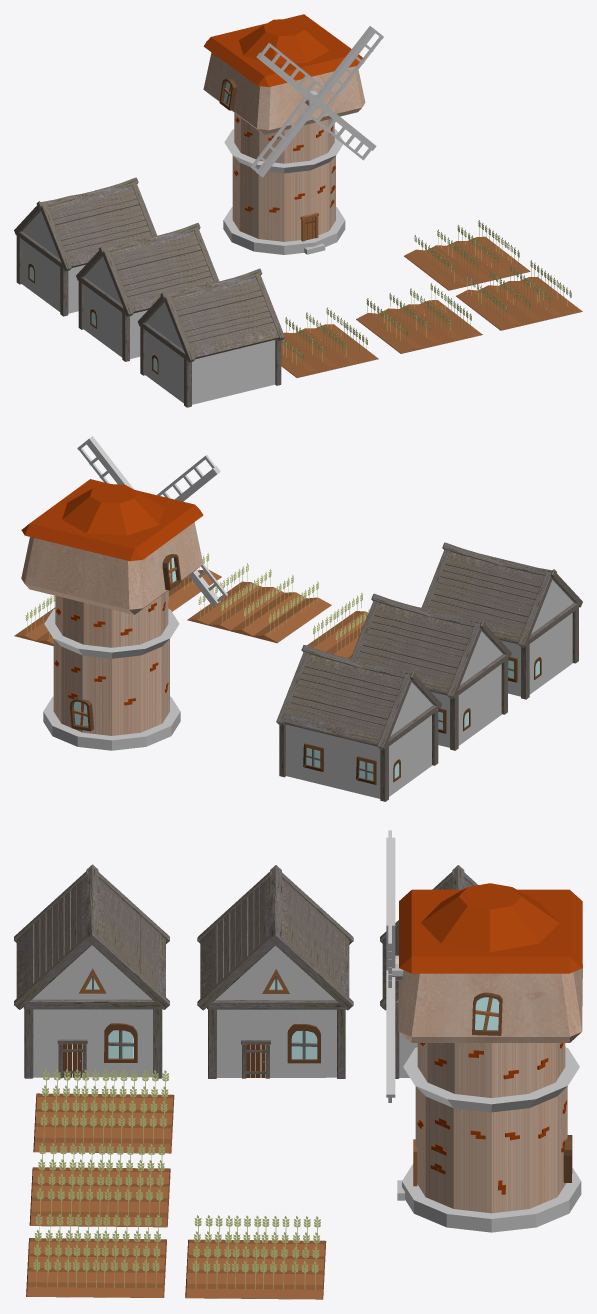
File: field_lvl_3.fbx
3 views of the same model, one above another, from view 1: azimuth 30°, elevation 25°; view 2: azimuth 150°, elevation 25°; view 3: azimuth 270°, elevation 25° (orthographic). The views are drawn at different scales.
Visible parts, largest first — view 1: Cylinder, Cube.014, Cube.033, Cube.007, Cube.019, Cube.016, Cube, Cylinder.002, Plane.001, Plane.002, Plane.006, Plane.004 (+8 smaller); view 2: Cylinder, Cube.033, Cube.014, Cube.007, Cube.019, Cube, Cube.035, Plane.002, Cube.016, Cube.009, Cylinder.003, Cylinder.002 (+11 smaller); view 3: Cylinder, Cube.014, Cube.019, Cube.007, Cube, Cube.016, Cube.009, Plane.006, Plane.001, Plane.004, Plane.002, Cylinder.003 (+13 smaller).
Boxes of the visible parts, left/top/right/bottom form: Cylinder: left=232, top=113, right=335, bottom=241; Cube.014: left=137, top=268, right=284, bottom=407; Cube.033: left=14, top=177, right=157, bottom=316; Cube.007: left=76, top=223, right=219, bottom=361; Cube.019: left=203, top=14, right=362, bottom=87; Cube.016: left=146, top=302, right=275, bottom=404; Cube: left=203, top=52, right=365, bottom=134; Cylinder.002: left=250, top=26, right=383, bottom=177; Plane.001: left=456, top=276, right=582, bottom=330; Plane.002: left=356, top=300, right=482, bottom=353; Plane.006: left=404, top=236, right=530, bottom=290; Plane.004: left=281, top=324, right=378, bottom=377; Cylinder: left=53, top=591, right=169, bottom=735; Cube.033: left=276, top=645, right=441, bottom=801; Cube.014: left=421, top=542, right=582, bottom=699; Cube.007: left=351, top=593, right=511, bottom=750; Cube.019: left=21, top=479, right=203, bottom=561; Cube: left=21, top=522, right=203, bottom=614; Cube.035: left=286, top=682, right=432, bottom=798; Plane.002: left=187, top=581, right=331, bottom=643; Cube.016: left=500, top=580, right=573, bottom=696; Cube.009: left=431, top=631, right=502, bottom=747; Cylinder.003: left=43, top=696, right=180, bottom=750; Cylinder.002: left=77, top=436, right=227, bottom=606; Cylinder: left=415, top=1043, right=567, bottom=1213; Cube.014: left=14, top=864, right=169, bottom=1078; Cube.019: left=399, top=883, right=582, bottom=973; Cube.007: left=197, top=865, right=353, bottom=1078; Cube: left=398, top=964, right=582, bottom=1042; Cube.016: left=32, top=945, right=153, bottom=1077; Cube.009: left=215, top=945, right=336, bottom=1077; Plane.006: left=185, top=1239, right=326, bottom=1299; Plane.001: left=26, top=1238, right=166, bottom=1297; Plane.004: left=33, top=1093, right=174, bottom=1153; Plane.002: left=29, top=1167, right=170, bottom=1227; Cylinder.003: left=397, top=1163, right=581, bottom=1232.
Size of what is drawn, in the model's own units: 493 by 264 by 410.
